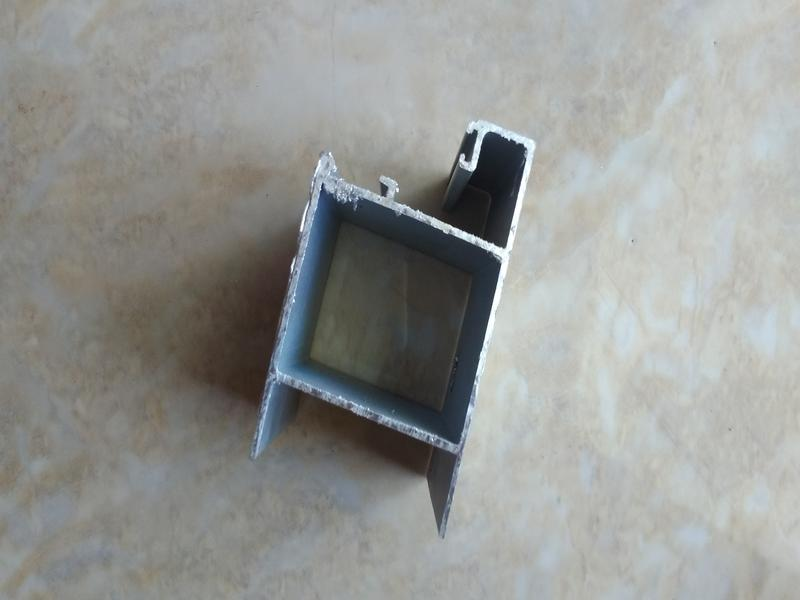Aluminium_2: (222, 63, 574, 556)
